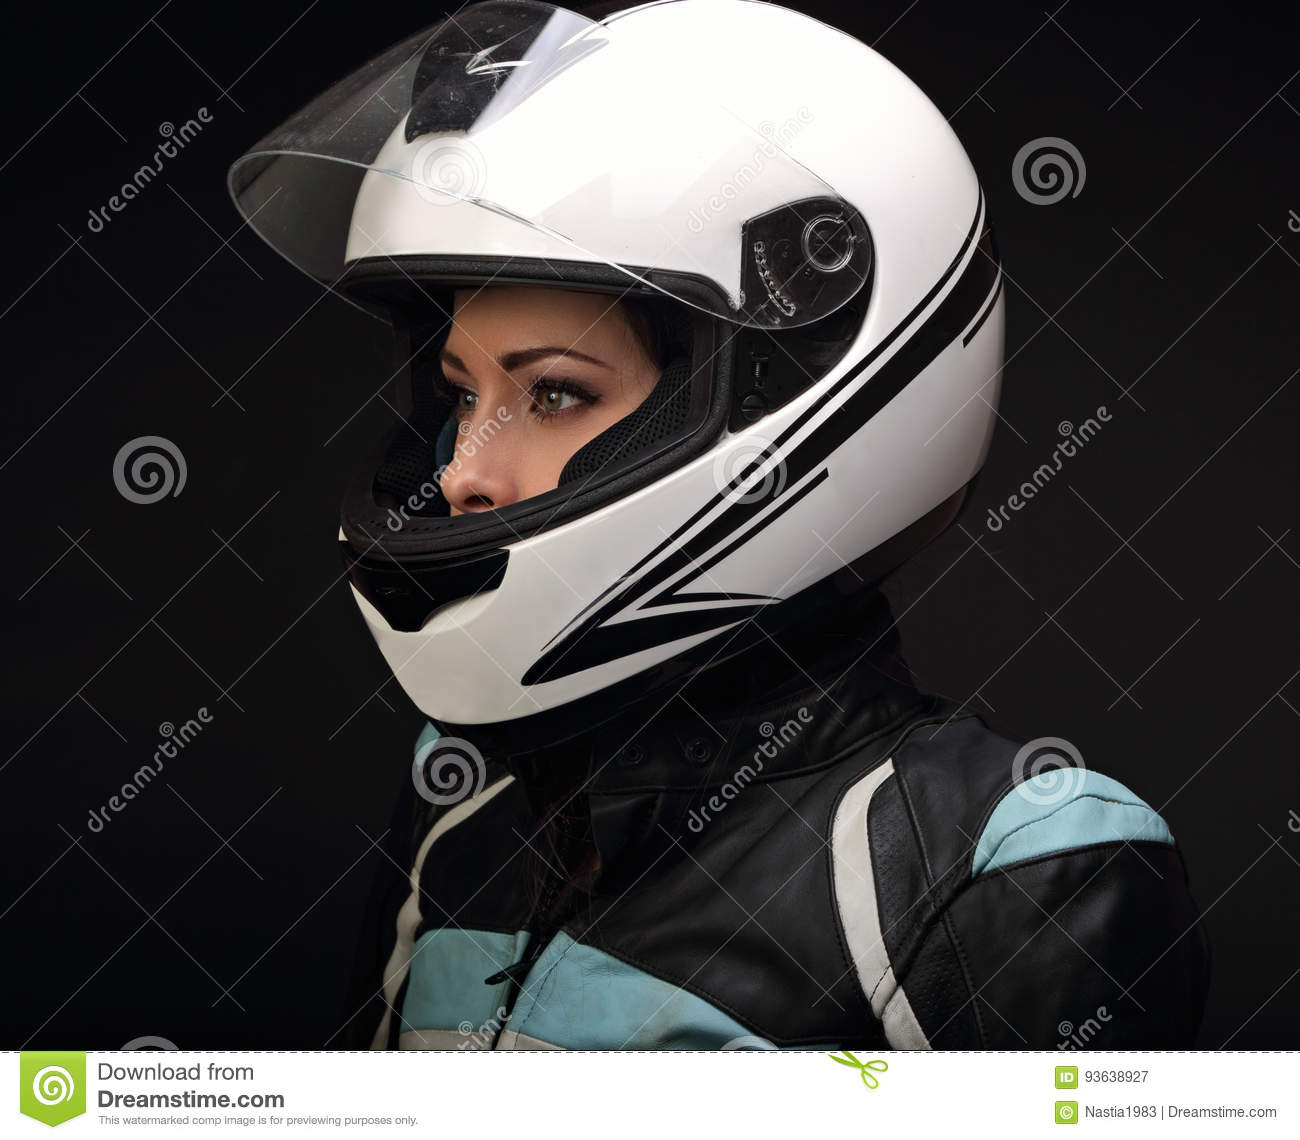helmet: (340, 18, 977, 661)
